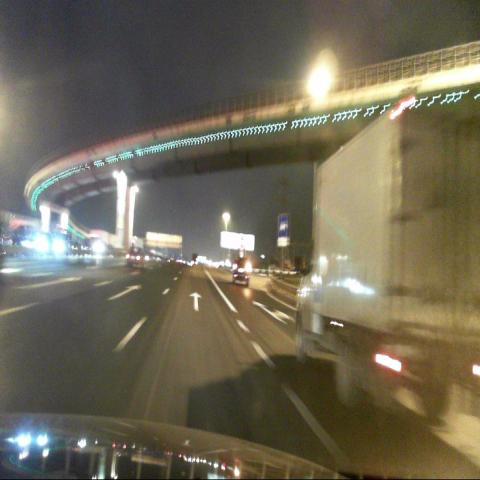5_3: (279, 214, 289, 238)
